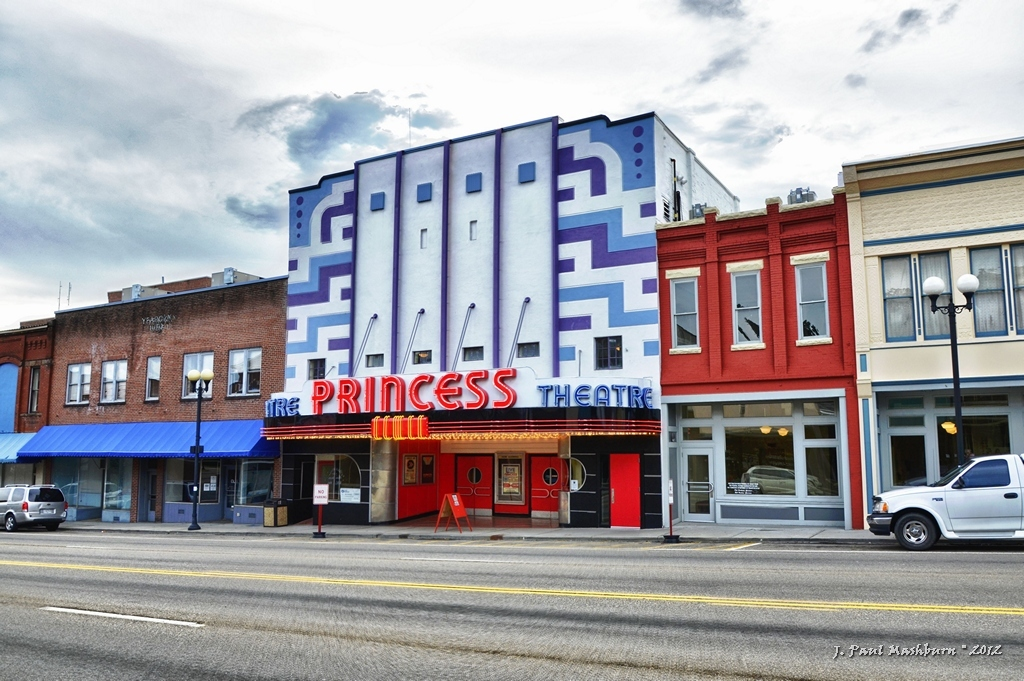Car: (876, 450, 1018, 555), (0, 482, 65, 526)
